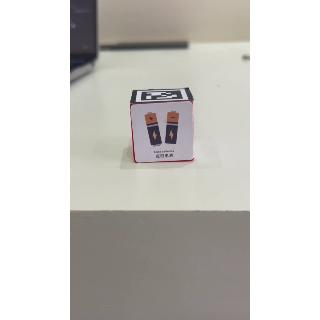Used_Battery: (129, 102, 196, 162)
